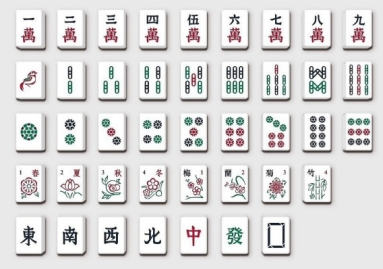b1: (16, 61, 44, 98)
b2: (58, 61, 83, 99)
b3: (97, 62, 125, 99)
b4: (140, 61, 167, 99)
b5: (181, 62, 207, 98)
b6: (221, 60, 248, 98)
b7: (263, 61, 290, 99)
b8: (304, 61, 331, 99)
b9: (345, 61, 372, 99)
c1: (15, 10, 45, 47)
c2: (57, 11, 85, 47)
c3: (98, 10, 127, 50)
c4: (140, 11, 166, 48)
c5: (180, 11, 207, 48)
c6: (221, 10, 249, 47)
c7: (263, 10, 291, 45)
c8: (304, 11, 332, 47)
c9: (345, 9, 373, 47)
d1: (15, 112, 45, 152)
d2: (57, 112, 86, 151)
d3: (99, 114, 127, 150)
d4: (139, 112, 167, 151)
d5: (179, 112, 207, 151)
d6: (223, 114, 248, 151)
d7: (262, 113, 289, 149)
d8: (304, 113, 330, 150)
d9: (345, 113, 372, 150)
dg: (222, 217, 249, 254)
dr: (180, 217, 207, 254)
dw: (263, 217, 290, 254)
f1: (180, 165, 208, 180)
f2: (222, 165, 249, 178)
f3: (264, 165, 290, 178)
f4: (302, 164, 331, 177)
s1: (15, 165, 42, 178)
s2: (56, 164, 84, 178)
s3: (97, 165, 125, 178)
s4: (140, 166, 167, 178)
we: (15, 217, 43, 253)
wn: (138, 216, 166, 253)
ws: (56, 216, 84, 253)
ww: (98, 217, 127, 254)
